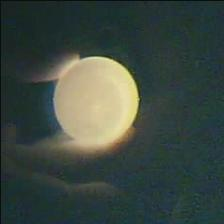infertile: (50, 53, 140, 147)
